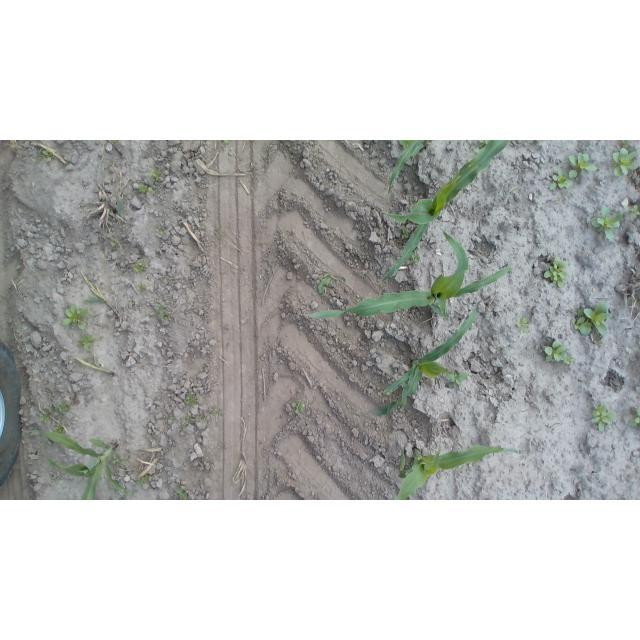Maize: (302, 230, 512, 321), (380, 141, 514, 280), (367, 310, 482, 417), (394, 441, 518, 500), (26, 429, 127, 500), (388, 140, 431, 198)
Weeds: (181, 393, 221, 431), (573, 298, 608, 341), (592, 204, 625, 243), (540, 332, 575, 368), (32, 404, 79, 428), (609, 148, 639, 179), (543, 255, 569, 290), (567, 154, 598, 183), (591, 402, 613, 432), (59, 305, 88, 326), (549, 171, 572, 197), (446, 371, 470, 391), (149, 168, 171, 185), (78, 332, 99, 349), (513, 316, 531, 335), (292, 401, 311, 418), (133, 183, 151, 200), (37, 151, 56, 166), (629, 406, 640, 431), (629, 200, 639, 225), (134, 258, 149, 274), (111, 454, 123, 468), (156, 224, 170, 236), (410, 254, 421, 267), (174, 488, 188, 498), (221, 141, 232, 152), (401, 228, 410, 241), (142, 478, 155, 486)
